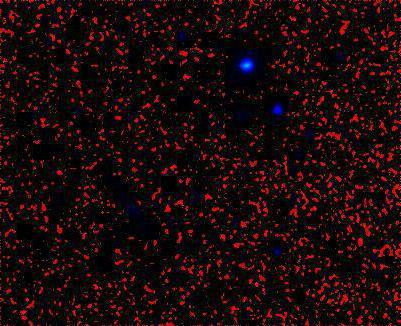star: (118, 194, 148, 224)
